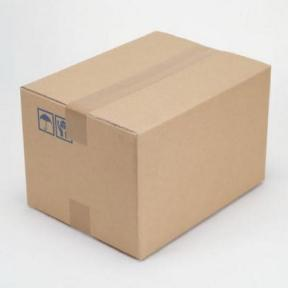box: (11, 25, 281, 261)
